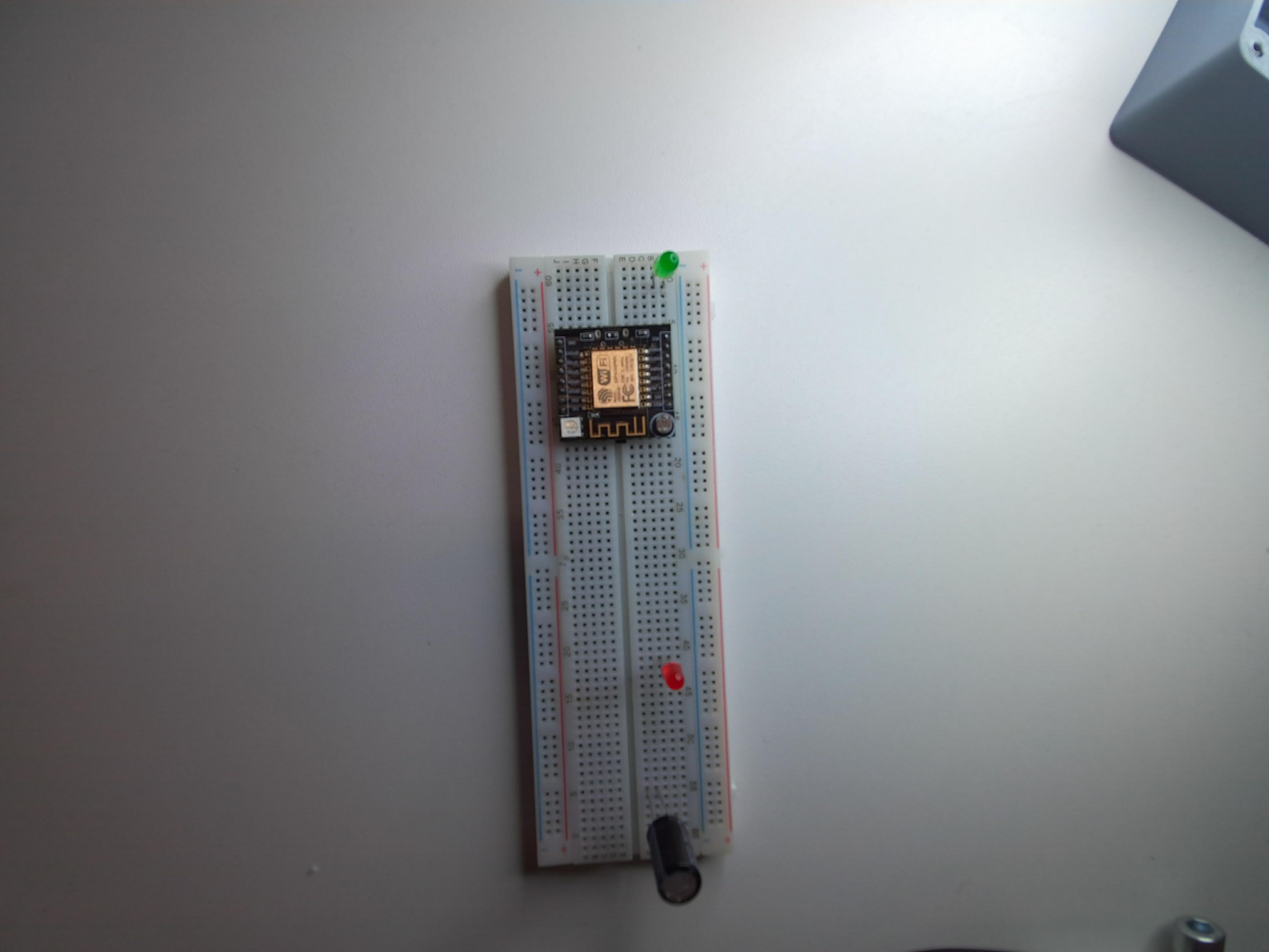base: (497, 247, 736, 885)
capacitor: (644, 814, 706, 909)
esp: (550, 323, 677, 443)
green-led: (646, 250, 682, 283)
red-led: (660, 656, 688, 694)
